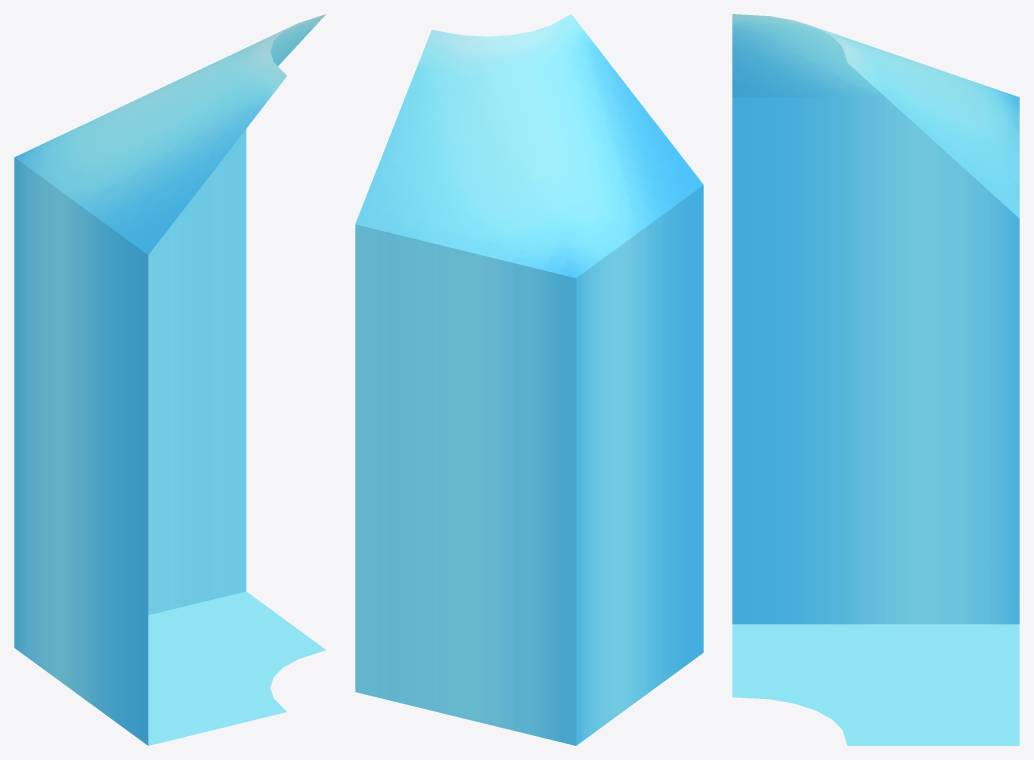
File: CornerToStraight_TopLeft.glb
3 views of the same model, side by side, from view 1: azimuth 30°, elevation 25°; view 2: azimuth 150°, elevation 25°; view 3: azimuth 270°, elevation 25° (orthographic). The views are drawn at different scales.
Visible parts, largest first — view 1: CornerToStraight_TopLeft; view 2: CornerToStraight_TopLeft; view 3: CornerToStraight_TopLeft.
Part boxes in pixels (bbox=[...]): CornerToStraight_TopLeft: bbox=[14, 14, 325, 745]; CornerToStraight_TopLeft: bbox=[355, 14, 703, 745]; CornerToStraight_TopLeft: bbox=[732, 14, 1019, 745].
Bounding box in the file's own units: 0.2287 × 0.5995 × 0.2287.
Materials: 1 (1 with a texture image).
